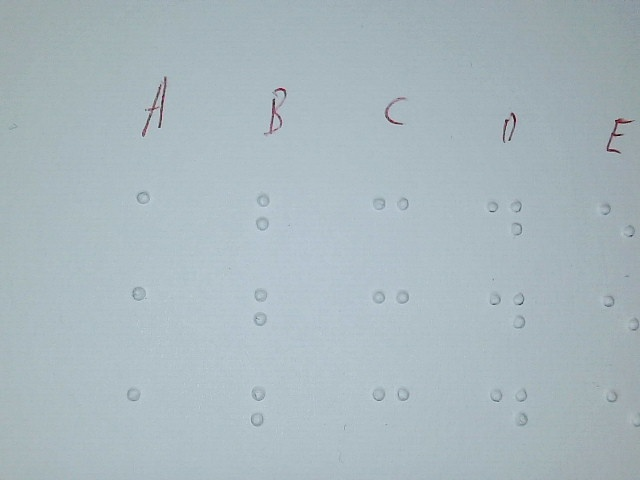A: (129, 183, 180, 259), (125, 278, 176, 354), (120, 380, 171, 456)
B: (248, 187, 303, 265), (246, 279, 301, 357), (243, 378, 298, 456)
C: (365, 188, 419, 261), (365, 282, 419, 355), (365, 380, 419, 453)
